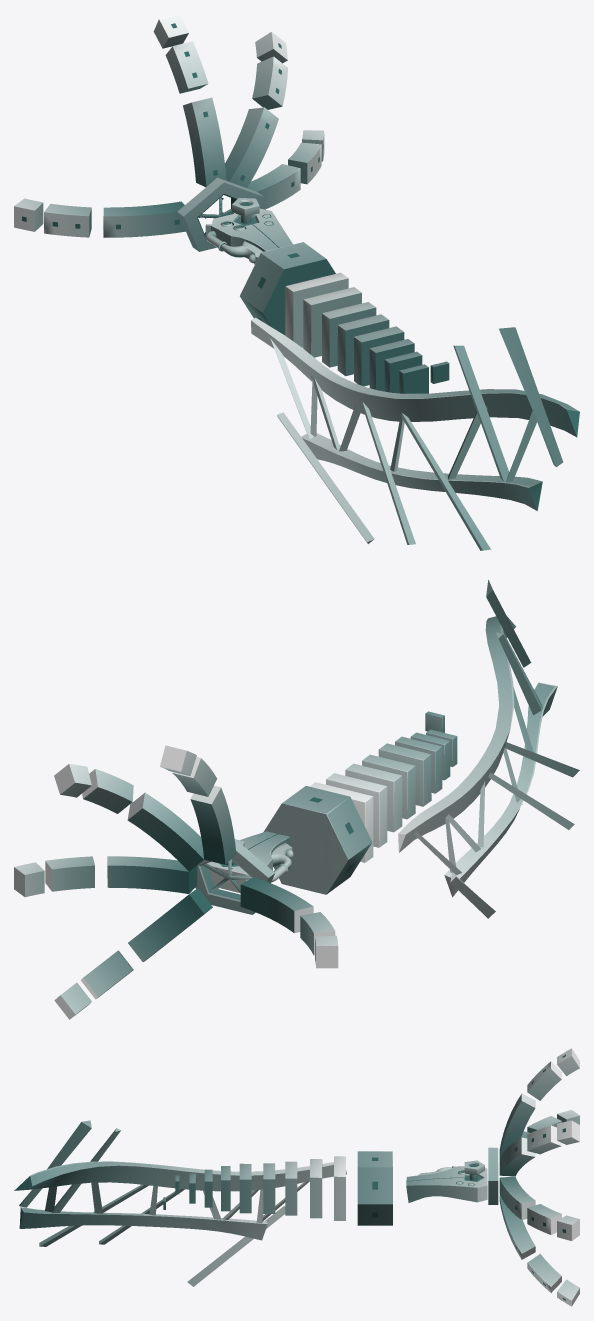
File: Arm_Diligence_B.fbx
The picture shows the model from 3 angles, top to bottom: view 1: azimuth 30°, elevation 25°; view 2: azimuth 150°, elevation 25°; view 3: azimuth 270°, elevation 25°; orthographic projection. The views are drawn at different scales.
Parts seen in each view (by area): view 1: IronFrame, Cube, finger_1, finger_4, finger_2, Hexagon, Controller, finger_3, Palm; view 2: IronFrame, Cube, Hexagon, finger_3, finger_2, finger_5, finger_1, finger_4, Palm, Controller; view 3: IronFrame, Cube, Hexagon, Controller, finger_1, finger_3, finger_5, finger_2, Palm, finger_4.
Part boxes in pixels (left/top/right/bottom): IronFrame: left=251, top=317, right=579, bottom=550; Cube: left=285, top=272, right=449, bottom=393; finger_1: left=153, top=14, right=226, bottom=187; finger_4: left=14, top=198, right=185, bottom=237; finger_2: left=225, top=31, right=287, bottom=187; Hexagon: left=240, top=242, right=335, bottom=335; Controller: left=205, top=197, right=292, bottom=264; finger_3: left=231, top=130, right=324, bottom=209; Palm: left=177, top=177, right=263, bottom=251; IronFrame: left=398, top=580, right=579, bottom=918; Cube: left=310, top=711, right=457, bottom=862; Hexagon: left=263, top=786, right=372, bottom=894; finger_3: left=14, top=856, right=197, bottom=897; finger_2: left=54, top=763, right=203, bottom=871; finger_5: left=54, top=888, right=212, bottom=1019; finger_1: left=160, top=745, right=236, bottom=864; finger_4: left=240, top=877, right=338, bottom=968; Palm: left=195, top=839, right=274, bottom=914; Controller: left=207, top=831, right=293, bottom=892; IronFrame: left=14, top=1120, right=346, bottom=1286; Cube: left=163, top=1156, right=345, bottom=1220; Hexagon: left=357, top=1151, right=392, bottom=1225; Controller: left=406, top=1160, right=487, bottom=1202; finger_1: left=499, top=1048, right=579, bottom=1157; finger_3: left=499, top=1176, right=579, bottom=1240; finger_5: left=499, top=1195, right=579, bottom=1306; finger_2: left=499, top=1120, right=579, bottom=1176; Palm: left=488, top=1147, right=498, bottom=1204; finger_4: left=499, top=1110, right=579, bottom=1158.
Size of the model in its own units: 33.35 by 34.24 by 69.27.
